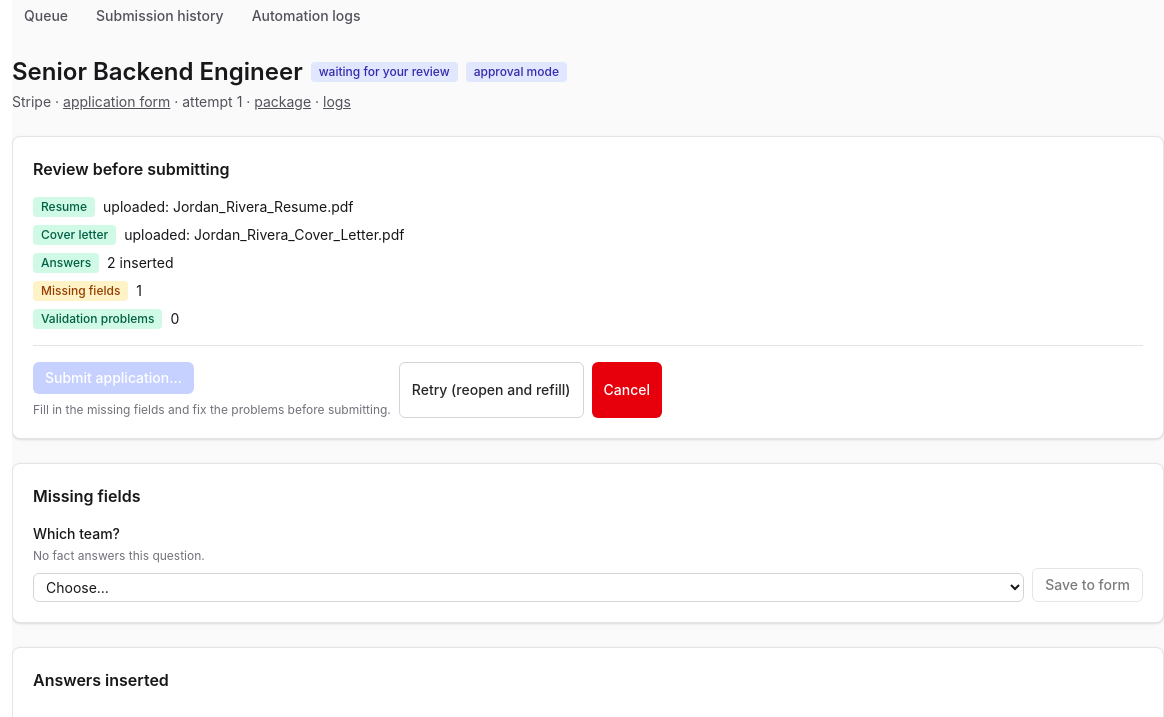
ApplicationReview › shows the review checklist and fills a missing field
Expected: the text "uploaded: Jordan_Rivera_Resume.pdf" is shown, left=103, top=197, right=354, bottom=217
Expected: the text "uploaded: Jordan_Rivera_Cover_Letter.pdf" is shown, left=124, top=225, right=404, bottom=245
Select "Payments" in the dropdown at (529, 588), box left=33, top=573, right=1024, bottom=602
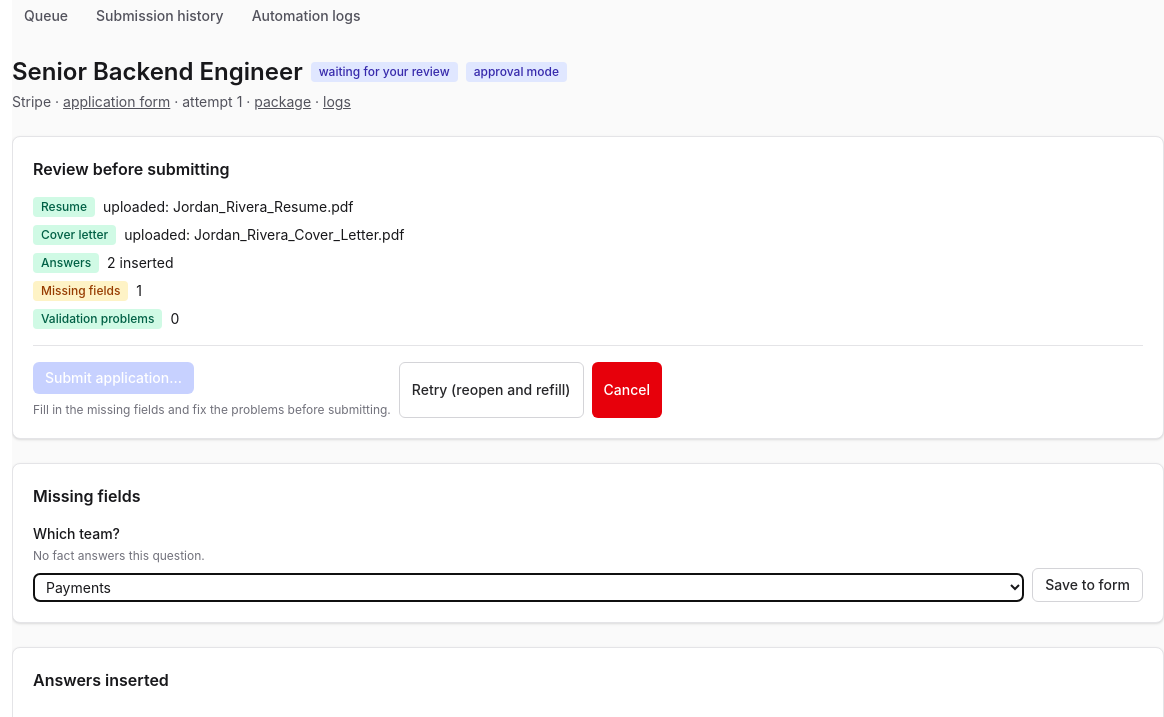
Click the button "Save to form" at (1088, 585), box left=1032, top=568, right=1143, bottom=602
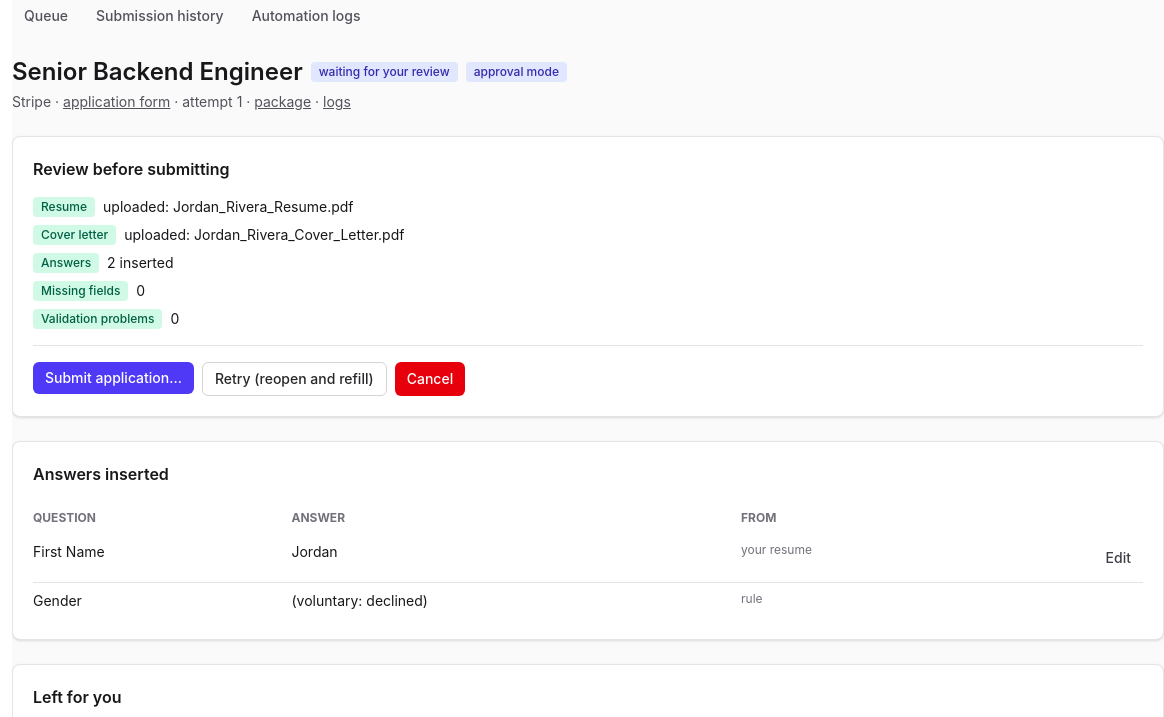
Result: the button "Submit application…" is enabled at left=33, top=362, right=194, bottom=394
